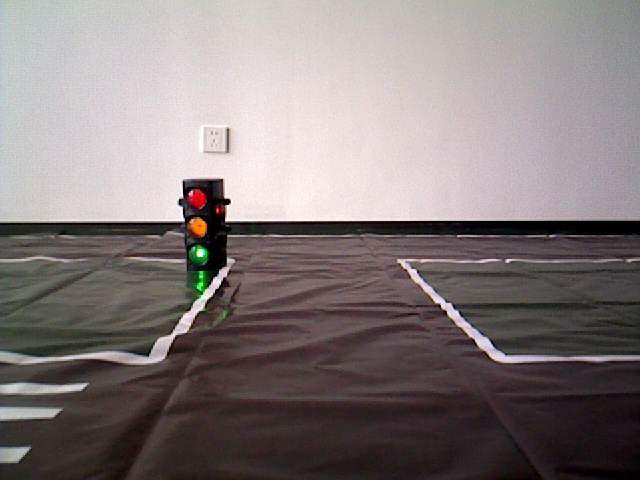green: (183, 182, 224, 266)
